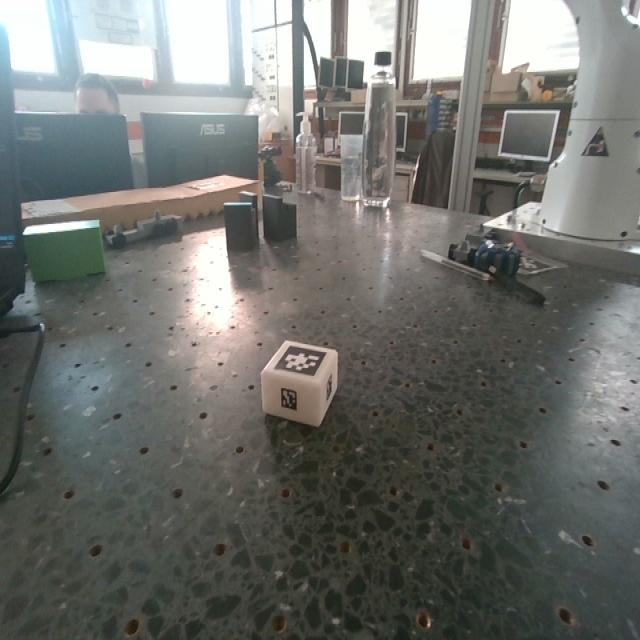Cube: (260, 338, 340, 426)
